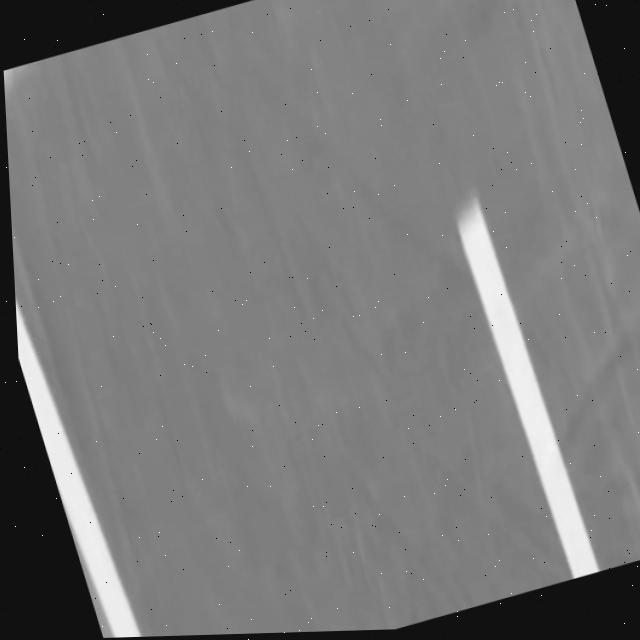center: (458, 195, 599, 578)
left: (16, 304, 140, 638)
